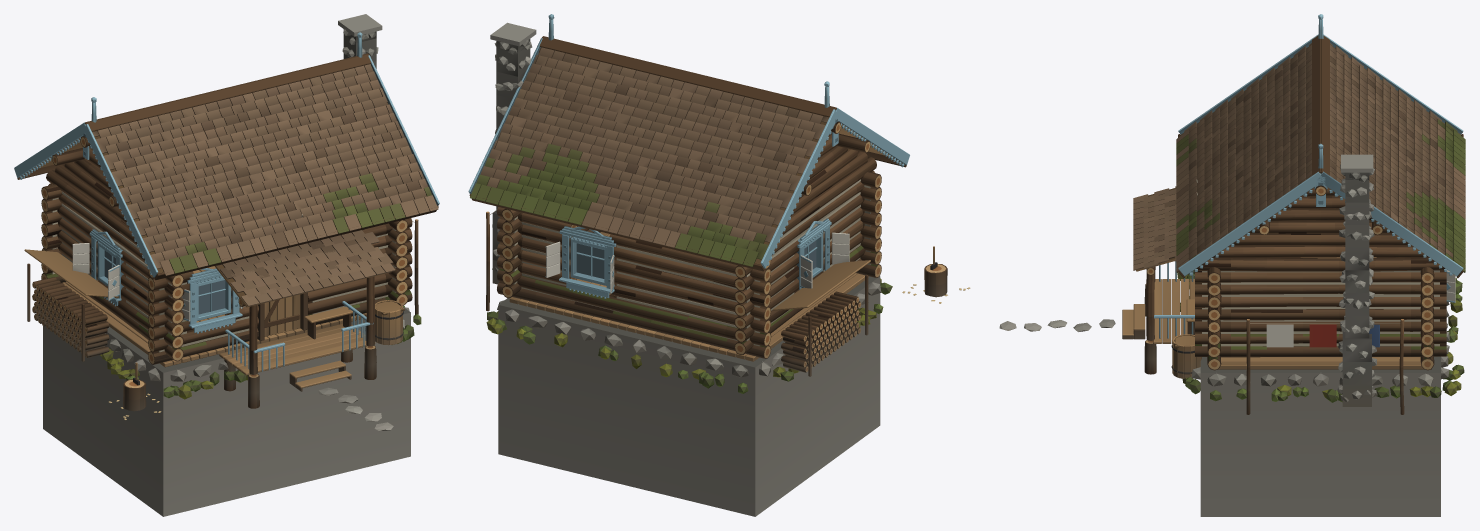
3 views of the same model, side by side, from view 1: azimuth 30°, elevation 25°; view 2: azimuth 150°, elevation 25°; view 3: azimuth 270°, elevation 25° (orthographic). The views are drawn at different scales.
Parts seen in each view (by area): view 1: stone-plinth-001, shingle-003, shingle-002, shingle-001, shingle-007, wood-pile-004, dark-003, plank-014, plank-barge-002, plank-001, plank-trim-005, plank-019 (+35 smaller); view 2: stone-plinth-001, shingle-006, shingle-005, shingle-004, wood-pile-004, dark-003, stone-found-003, log-008, log-003, plank-barge-002, plank-001, plank-trim-011 (+27 smaller); view 3: stone-plinth-001, shingle-006, shingle-003, shingle-002, shingle-005, shingle-001, shingle-004, plank-barge-003, shingle-007, log-053, log-042, log-026 (+32 smaller).
Part boxes in pixels (x1,y1,x2,y2): stone-plinth-001: (43,307,410,516); shingle-003: (135,154,438,275); shingle-002: (111,104,411,224); shingle-001: (92,64,388,174); shingle-007: (214,229,395,307); wood-pile-004: (32,277,109,357); dark-003: (84,53,371,131); plank-014: (219,323,375,375); plank-barge-002: (14,122,158,277); plank-001: (63,266,366,367); plank-trim-005: (187,268,242,333); plank-019: (24,249,118,361); stone-plinth-001: (498,276,880,516); shingle-006: (470,140,784,266); shingle-005: (495,89,809,212); shingle-004: (521,47,829,162); wood-pile-004: (781,291,861,372); dark-003: (539,36,836,117); stone-found-003: (486,309,748,393); log-008: (497,268,771,346); log-003: (497,281,771,358); plank-barge-002: (760,108,909,268); plank-001: (509,232,868,361); plank-trim-011: (559,226,616,299); stone-plinth-001: (1200,356,1440,516); shingle-006: (1414,100,1465,272); shingle-003: (1176,100,1227,272); shingle-002: (1228,68,1274,233); shingle-005: (1367,68,1413,233); shingle-001: (1274,43,1320,201); shingle-004: (1321,43,1367,183); plank-barge-003: (1178,171,1463,276); shingle-007: (1133,186,1176,271); log-053: (1196,257,1444,272); log-042: (1195,282,1446,296); log-026: (1195,307,1446,321).
Bounding box in the file's own units: 9.06 × 9.19 × 10.28.
